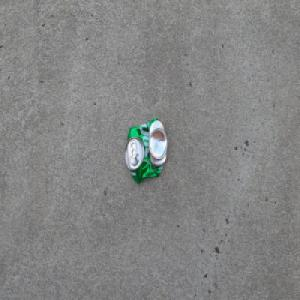SodaCan: (123, 117, 168, 186)
